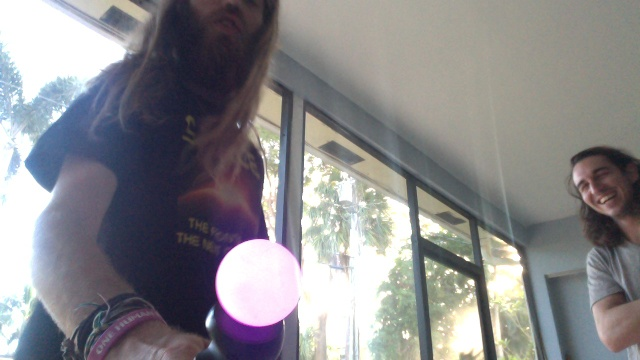wand: (216, 238, 301, 326)
